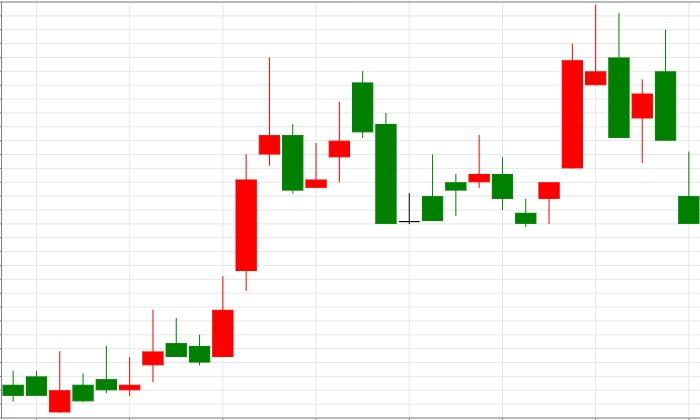shooting_star_fall: (188, 57, 281, 365), (515, 4, 607, 227)
